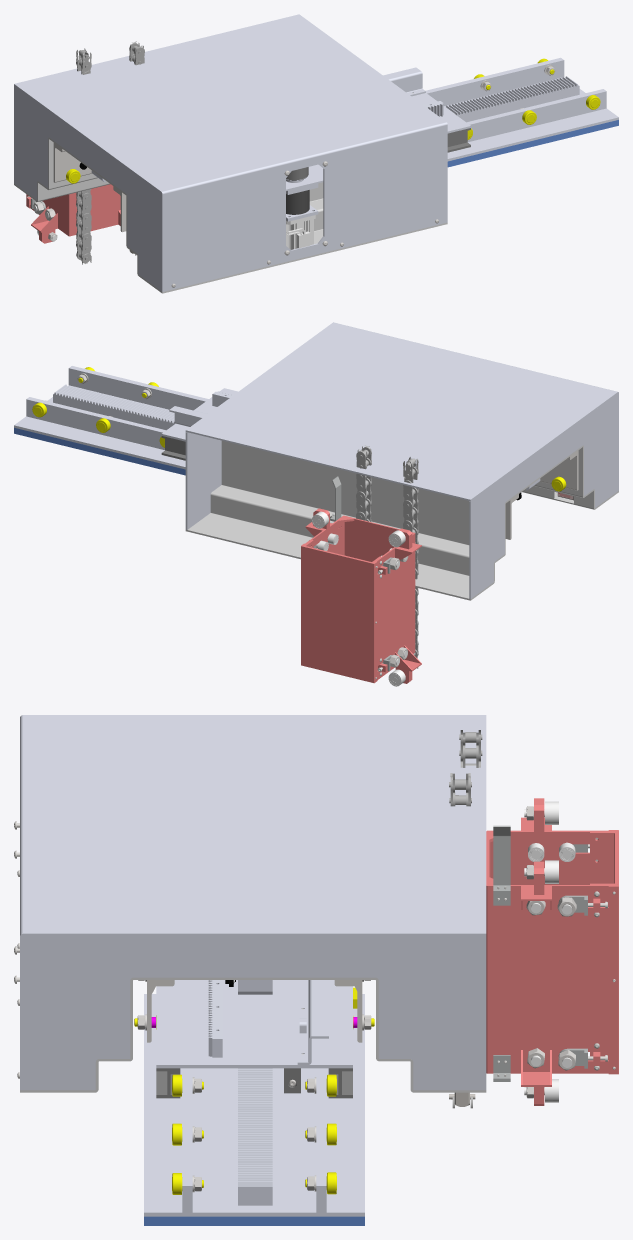
File: Crane Lift.fbx
3 renders of one model, top to bottom at view 1: azimuth 30°, elevation 25°; view 2: azimuth 150°, elevation 25°; view 3: azimuth 270°, elevation 25°, orthographic. The views are drawn at different scales.
Visible parts, largest first — view 1: Cran_Lift, Crane_Lift_Side; view 2: Cran_Lift, Crane_Lift_Side; view 3: Cran_Lift, Crane_Lift_Side.
Boxes of the visible parts, x1,y1,x2,y2 form: Cran_Lift: [14, 14, 618, 293]; Crane_Lift_Side: [26, 41, 144, 264]; Cran_Lift: [14, 322, 618, 600]; Crane_Lift_Side: [301, 445, 421, 686]; Cran_Lift: [14, 715, 486, 1225]; Crane_Lift_Side: [449, 730, 618, 1108].
Bounding box in the file's own units: 3.91 × 1.6 × 2.63.
